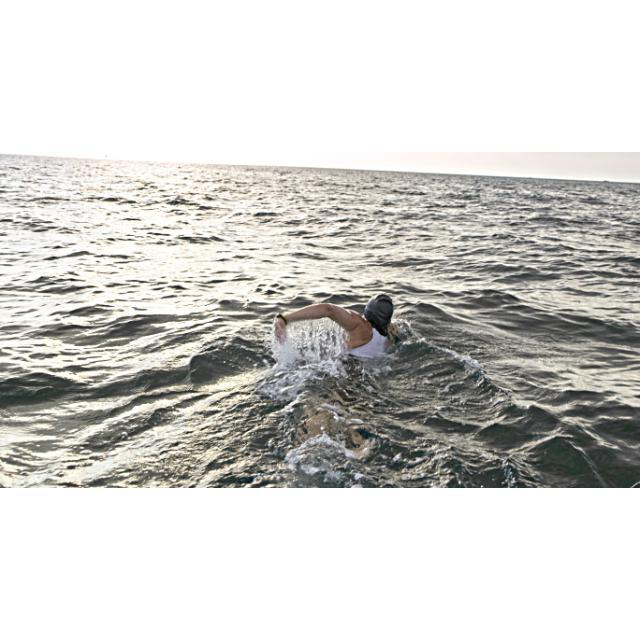human: (271, 292, 407, 369)
